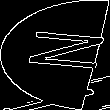N_E: (7, 31, 103, 79)
